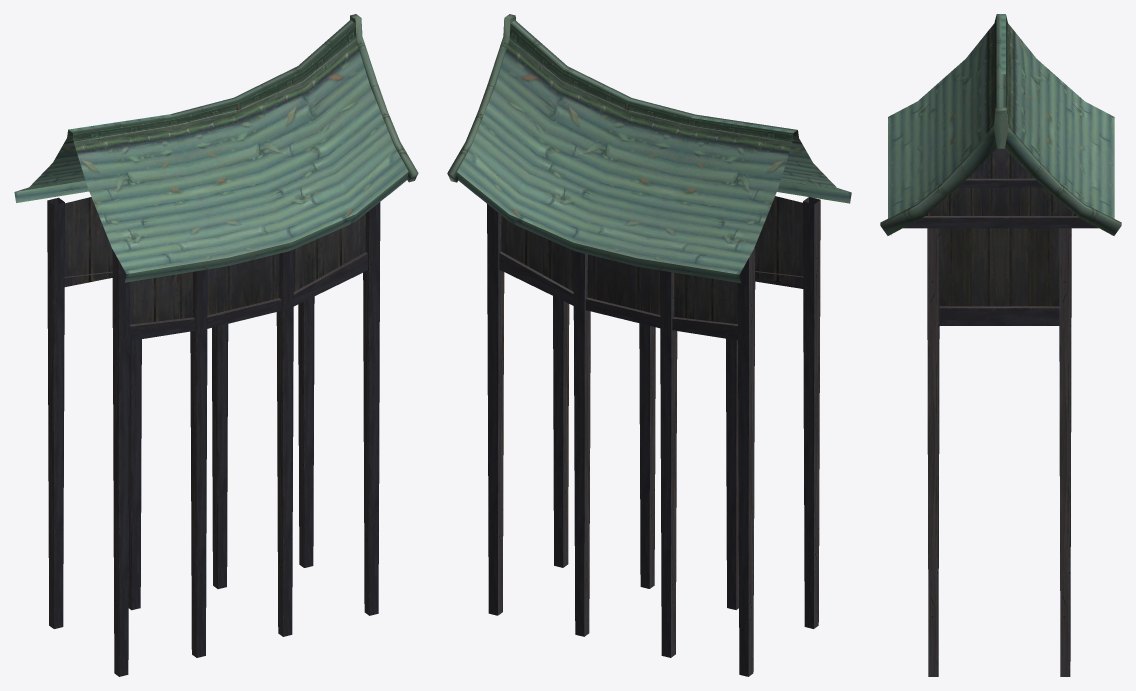
The model's file is yw_tangmen_qiaoxia01_53_39_1318out.fbx.
3 renders of one model, left to right at view 1: azimuth 30°, elevation 25°; view 2: azimuth 150°, elevation 25°; view 3: azimuth 270°, elevation 25°, orthographic.
Parts seen in each view (by area): view 1: yw_tangmen_qiaoxia01; view 2: yw_tangmen_qiaoxia01; view 3: yw_tangmen_qiaoxia01.
Boxes of the visible parts, x1=… form: yw_tangmen_qiaoxia01: x1=14, y1=14, x2=418, y2=676; yw_tangmen_qiaoxia01: x1=447, y1=14, x2=851, y2=676; yw_tangmen_qiaoxia01: x1=880, y1=14, x2=1121, y2=676.
Bounding box in the file's own units: 4.2 × 7.9 × 3.01.
